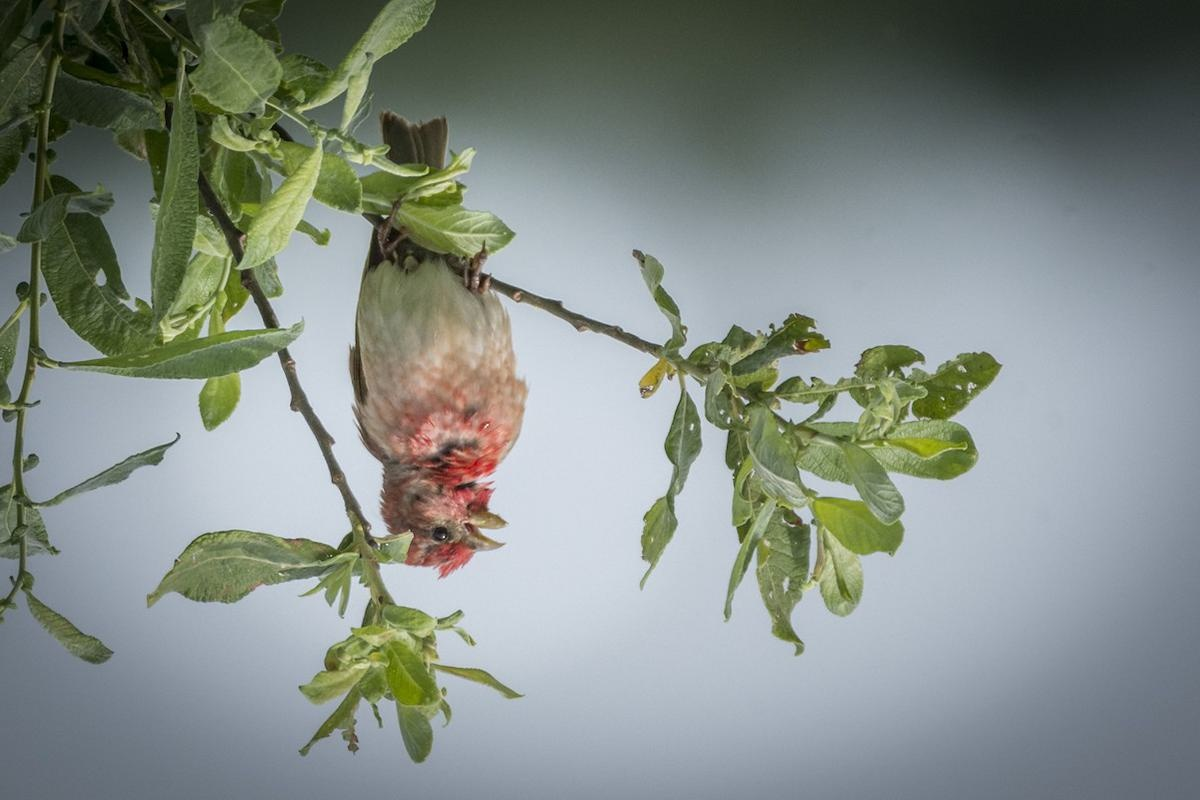rosefinch: (340, 113, 550, 577)
